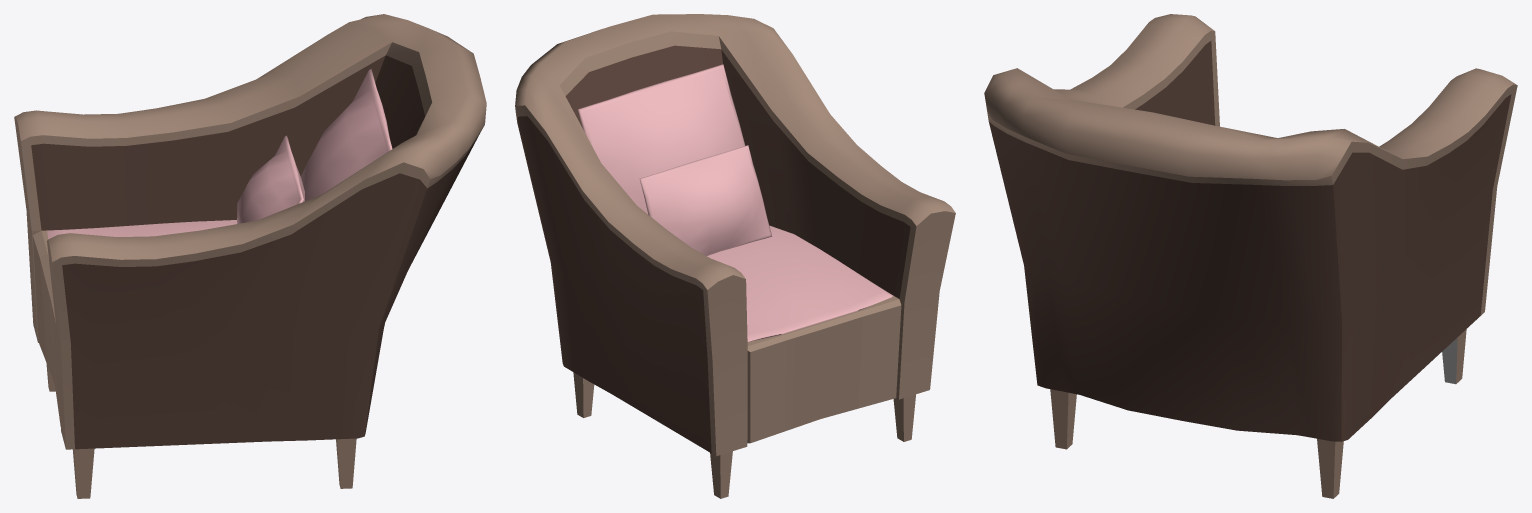
File: misk_wickerChair.fbx
3 renders of one model, left to right at view 1: azimuth 30°, elevation 25°; view 2: azimuth 150°, elevation 25°; view 3: azimuth 270°, elevation 25°, orthographic. The views are drawn at different scales.
Parts seen in each view (by area): view 1: whickerChair_mesh2; view 2: whickerChair_mesh2; view 3: whickerChair_mesh2.
Part boxes in pixels (x1,y1,x2,y2): whickerChair_mesh2: [14, 14, 486, 498]; whickerChair_mesh2: [515, 14, 955, 498]; whickerChair_mesh2: [984, 14, 1517, 498].
Size of the model in its own units: 1.17 by 0.9204 by 1.09.
